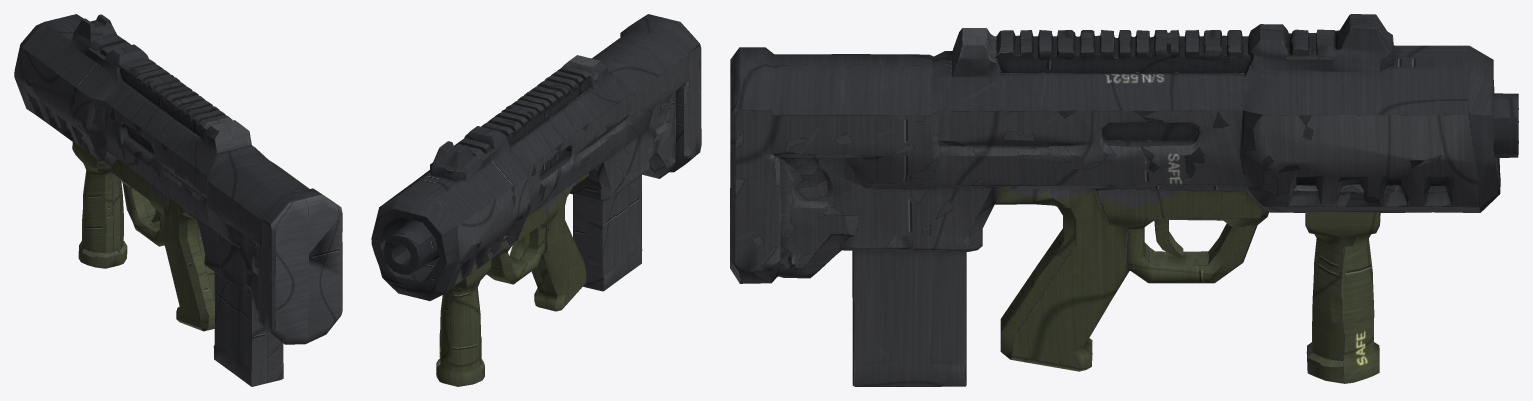
File: drum_shotgun.glb
The picture shows the model from 3 angles, left to right: view 1: azimuth 30°, elevation 25°; view 2: azimuth 150°, elevation 25°; view 3: azimuth 270°, elevation 25°; orthographic projection. The views are drawn at different scales.
Parts seen in each view (by area): view 1: drum_shotgun_world; view 2: drum_shotgun_world; view 3: drum_shotgun_world.
Boxes of the visible parts, x1,y1,x2,y2 form: drum_shotgun_world: (14,14,342,386); drum_shotgun_world: (371,14,701,386); drum_shotgun_world: (730,14,1518,386).
Size of the model in its own units: 0.1631 by 0.4243 by 0.8533.
Materials: 1 (1 with a texture image).
